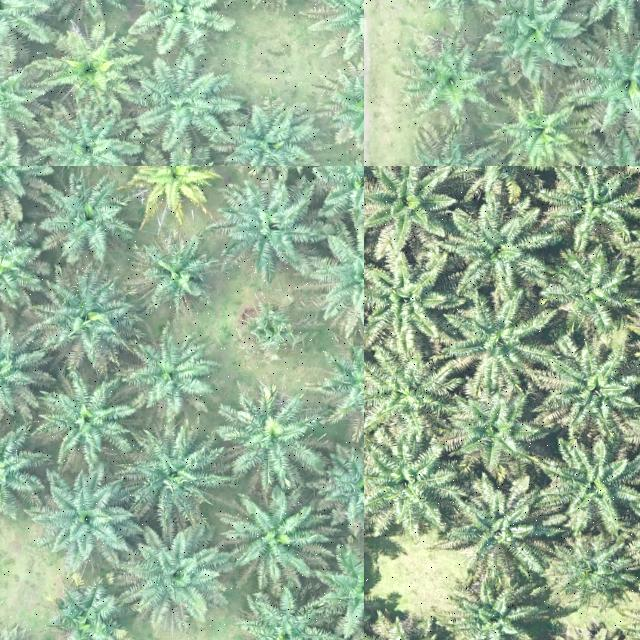Ganoderma: (137, 166, 204, 201)
